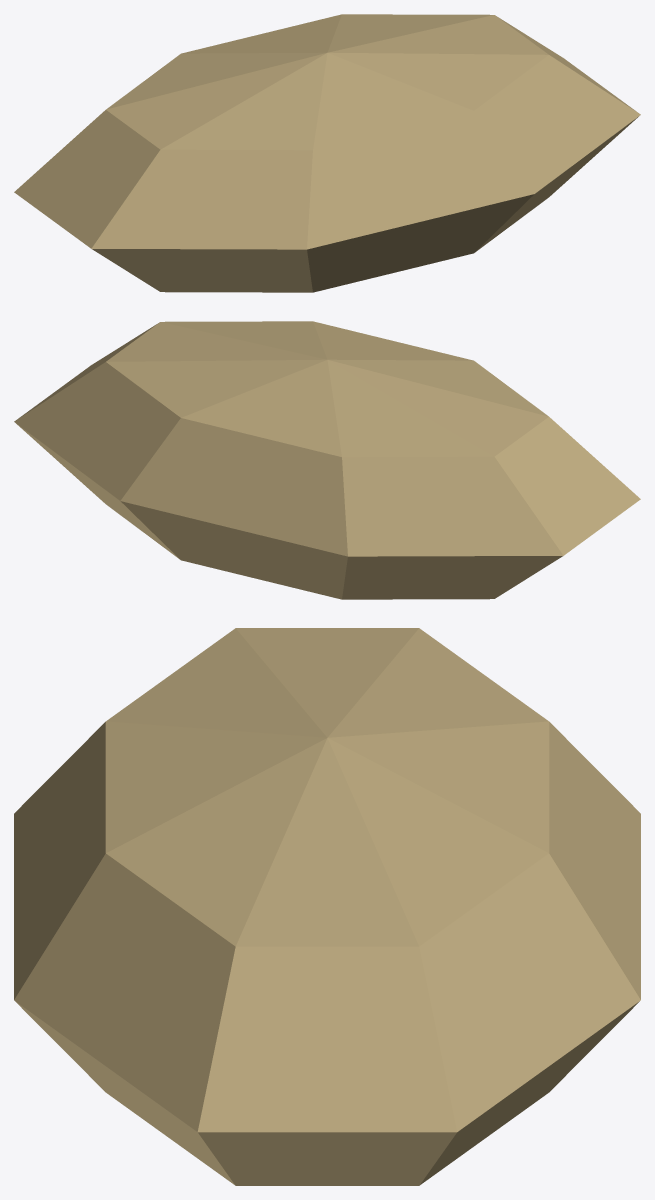
File: sandbag_single.glb
The picture shows the model from 3 angles, top to bottom: view 1: azimuth 30°, elevation 25°; view 2: azimuth 150°, elevation 25°; view 3: azimuth 270°, elevation 25°; orthographic projection. The views are drawn at different scales.
Visible parts, largest first — view 1: sandbag_single; view 2: sandbag_single; view 3: sandbag_single.
Part boxes in pixels (x1,y1,x2,y2): sandbag_single: [14, 14, 640, 292]; sandbag_single: [14, 321, 640, 599]; sandbag_single: [14, 628, 640, 1185].
Bounding box in the file's own units: 0.6282 × 0.22 × 0.3696.
